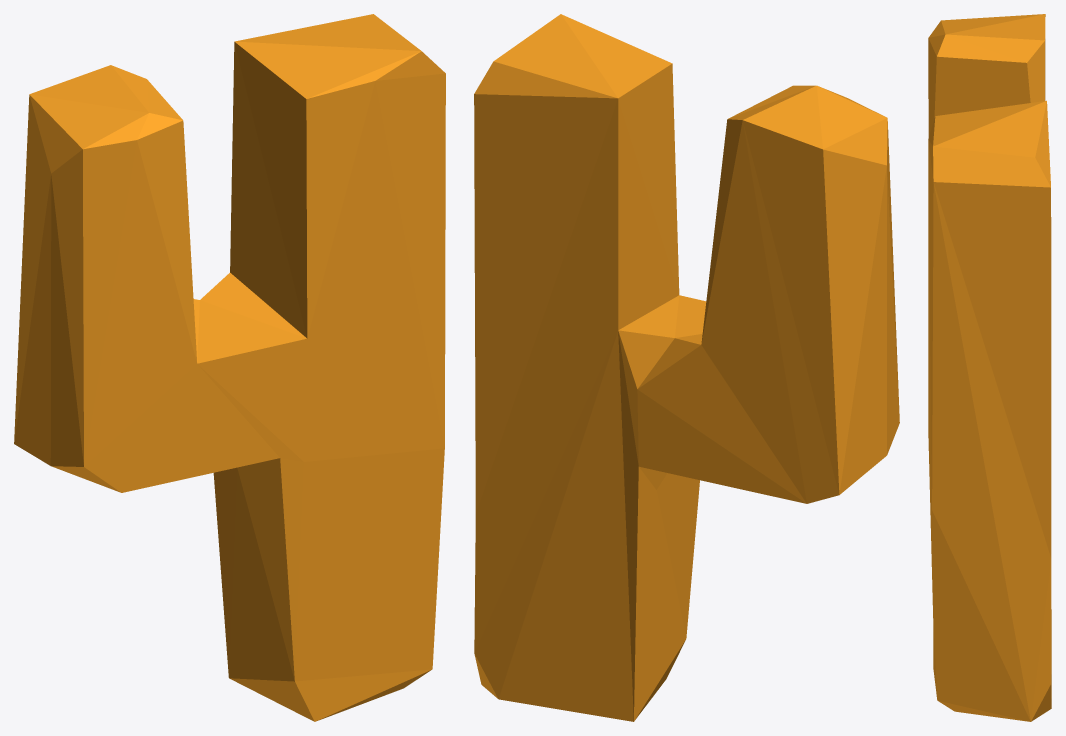
The model's file is SM_Icon_Number_4_01.fbx.
3 views of the same model, side by side, from view 1: azimuth 30°, elevation 25°; view 2: azimuth 150°, elevation 25°; view 3: azimuth 270°, elevation 25° (orthographic). The views are drawn at different scales.
Parts seen in each view (by area): view 1: SM_Icon_Number_4_01; view 2: SM_Icon_Number_4_01; view 3: SM_Icon_Number_4_01.
Part boxes in pixels (<box>): SM_Icon_Number_4_01: <box>14,14,445,721</box>; SM_Icon_Number_4_01: <box>474,14,899,721</box>; SM_Icon_Number_4_01: <box>928,14,1051,721</box>.
Bounding box in the file's own units: 32.49 × 53.45 × 10.54.
